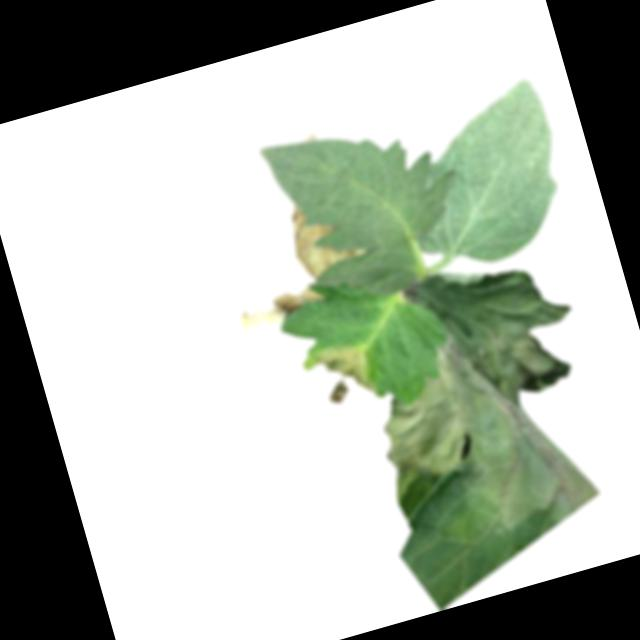Late_blight: (340, 239, 633, 566), (282, 190, 368, 285), (234, 280, 332, 337), (311, 335, 382, 411)
healthy: (259, 100, 478, 318), (384, 73, 582, 278)
